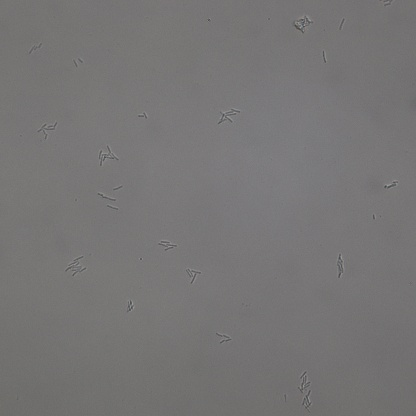R(colony): (97, 145, 119, 166), (65, 256, 86, 276), (37, 121, 56, 141), (292, 16, 312, 34), (218, 108, 239, 124), (298, 371, 311, 392), (302, 392, 315, 413), (187, 268, 201, 284), (159, 240, 177, 252), (336, 254, 344, 277), (216, 333, 232, 344), (29, 43, 43, 53), (384, 181, 398, 190), (127, 300, 136, 312), (72, 58, 82, 68), (137, 112, 148, 118)
